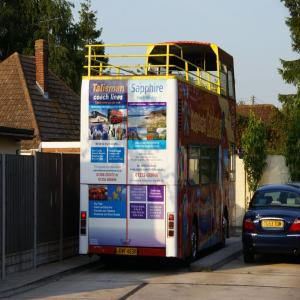Vehicle-registration-plate: (116, 246, 137, 257), (263, 218, 285, 227)
